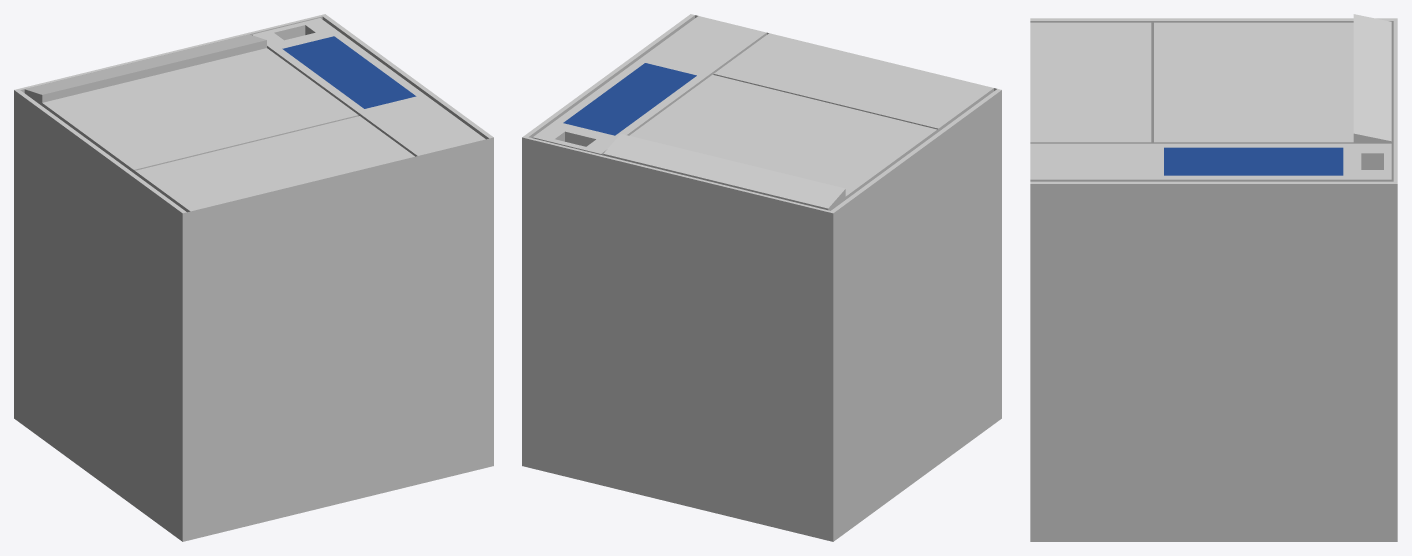
3 views of the same model, side by side, from view 1: azimuth 30°, elevation 25°; view 2: azimuth 150°, elevation 25°; view 3: azimuth 270°, elevation 25° (orthographic). The views are drawn at different scales.
Parts seen in each view (by area): view 1: Cube; view 2: Cube; view 3: Cube.
Boxes of the visible parts, x1,y1,x2,y2 form: Cube: [14, 14, 493, 541]; Cube: [522, 14, 1001, 541]; Cube: [1030, 14, 1397, 541].
Size of the model in its own units: 57 by 58.89 by 53.5.
